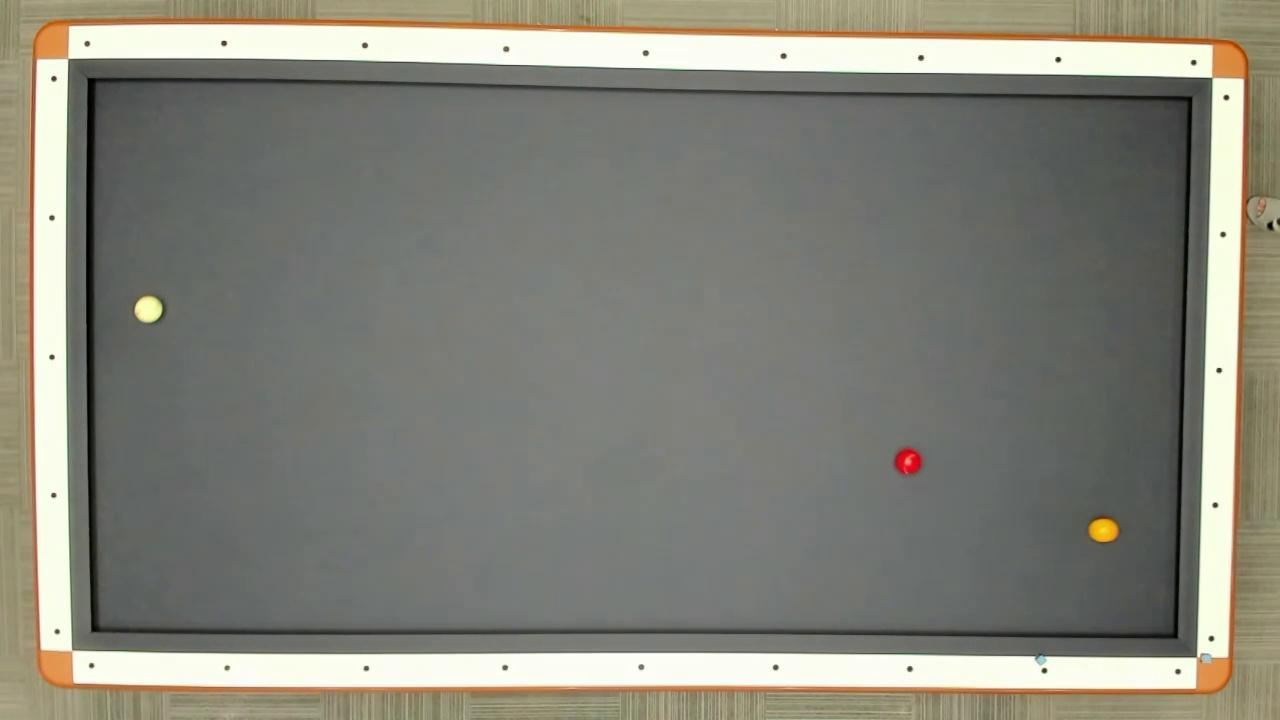Red: (892, 446, 925, 478)
White: (132, 294, 164, 326)
Yellow: (1086, 516, 1120, 545)
